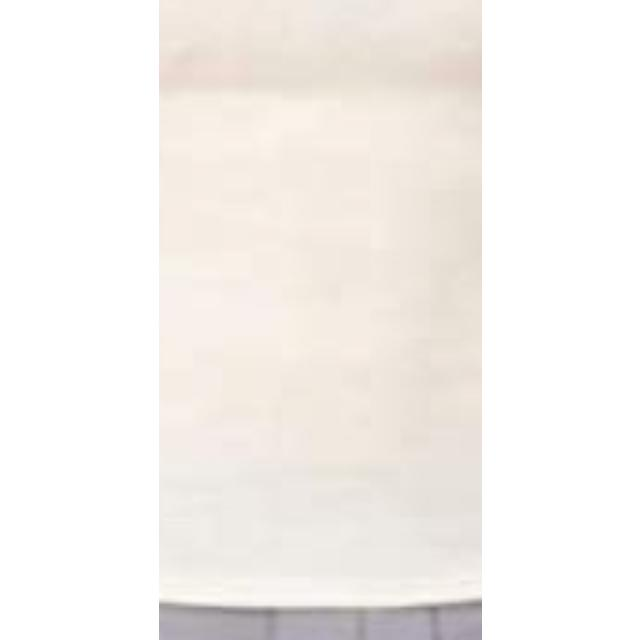wool: (158, 0, 482, 606)
